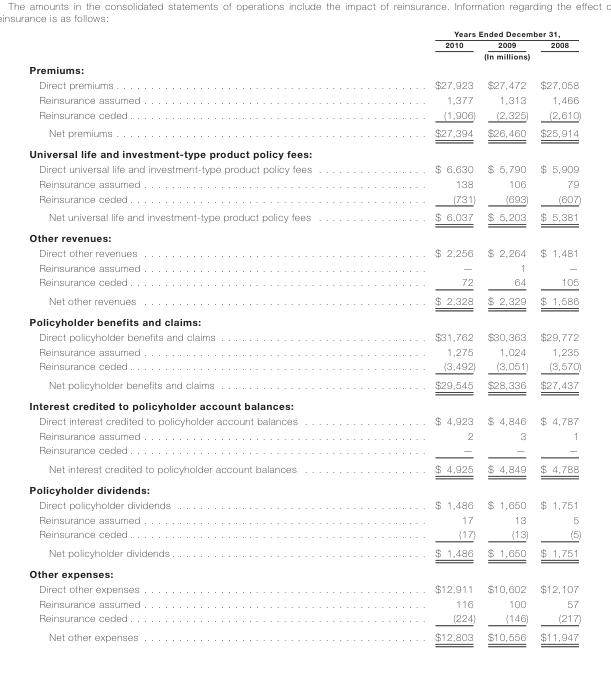table: (28, 28, 580, 641)
table column: (28, 28, 372, 641), (372, 28, 481, 641), (481, 28, 533, 641), (533, 28, 580, 641)
table column header: (28, 28, 580, 61)
table projected row header: (28, 142, 580, 161), (28, 226, 580, 245), (28, 310, 580, 329), (28, 394, 580, 412), (28, 478, 580, 496), (28, 562, 580, 580), (28, 61, 580, 77)
table row: (28, 123, 580, 142), (28, 142, 580, 161), (28, 207, 580, 226), (28, 226, 580, 245), (28, 291, 580, 310), (28, 310, 580, 329), (28, 375, 580, 394), (28, 459, 580, 478), (28, 543, 580, 562), (28, 394, 580, 412), (28, 478, 580, 496), (28, 562, 580, 580), (28, 106, 580, 123), (28, 190, 580, 207), (28, 274, 580, 291), (28, 358, 580, 375), (28, 442, 580, 459), (28, 526, 580, 543), (28, 610, 580, 627), (28, 61, 580, 77), (28, 91, 580, 106), (28, 175, 580, 190), (28, 259, 580, 274), (28, 343, 580, 358), (28, 412, 580, 427), (28, 427, 580, 442), (28, 496, 580, 511), (28, 511, 580, 526), (28, 580, 580, 595), (28, 595, 580, 610), (28, 77, 580, 91), (28, 161, 580, 175), (28, 245, 580, 259), (28, 329, 580, 343), (28, 627, 580, 641), (28, 49, 580, 61), (28, 38, 580, 49), (28, 28, 580, 38)
table spanning cell: (372, 49, 580, 61), (372, 28, 580, 38)
